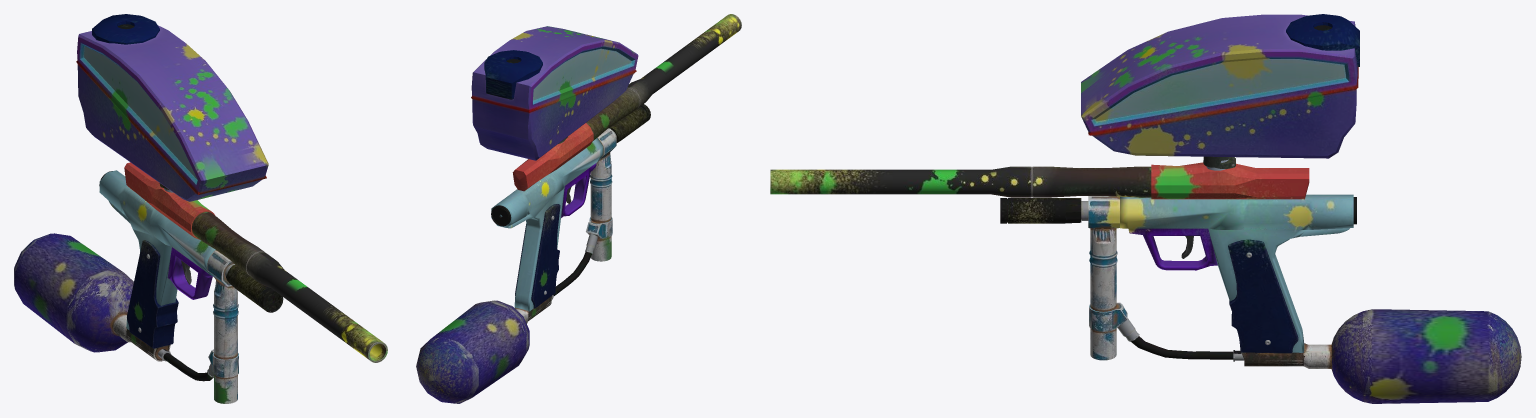
Rendered from paintball_gun.glb.
3 renders of one model, left to right at view 1: azimuth 30°, elevation 25°; view 2: azimuth 150°, elevation 25°; view 3: azimuth 270°, elevation 25°, orthographic. The views are drawn at different scales.
Parts seen in each view (by area): view 1: Pellet_Box, pSphere1, Muzzle, Gun, polySurface22, Grip, polySurface20, pCylinder14, polySurface18, pCylinder15, sweep2; view 2: Pellet_Box, pSphere1, Gun, Muzzle, polySurface22, pCylinder14, Grip, polySurface20, polySurface18, sweep2, pCylinder2, pCylinder15; view 3: Pellet_Box, pSphere1, Gun, Muzzle, Grip, polySurface20, polySurface22, pCylinder14, polySurface18, pCylinder15, sweep2.
Boxes of the visible parts, x1,y1,x2,y2 form: Pellet_Box: (76,25,268,201); pSphere1: (14,233,133,352); Muzzle: (192,212,387,362); Gun: (99,170,215,329); polySurface22: (207,250,238,403); Grip: (127,240,178,348); polySurface20: (124,162,215,239); pCylinder14: (92,14,159,44); polySurface18: (226,264,283,312); pCylinder15: (112,314,170,361); sweep2: (157,349,213,381); Pellet_Box: (471,26,638,160); pSphere1: (416,300,529,403); Gun: (491,138,603,311); Muzzle: (586,14,741,140); polySurface22: (586,128,616,261); pCylinder14: (484,50,542,99); Grip: (515,204,560,308); polySurface20: (512,123,593,191); polySurface18: (609,104,650,142); sweep2: (552,233,597,299); pCylinder2: (491,205,511,226); pCylinder15: (515,295,552,323); Pellet_Box: (1081,14,1358,158); pSphere1: (1331,309,1521,403); Gun: (1120,194,1353,352); Muzzle: (770,166,1151,197); Grip: (1228,239,1298,353); polySurface20: (1151,162,1309,199); polySurface22: (1088,196,1127,360); pCylinder14: (1286,14,1359,66); polySurface18: (1000,198,1081,223); pCylinder15: (1241,343,1331,368); sweep2: (1118,318,1243,361).
Size of the model in its own units: 0.1431 by 0.626 by 1.14.
1 material, 1 textured.
